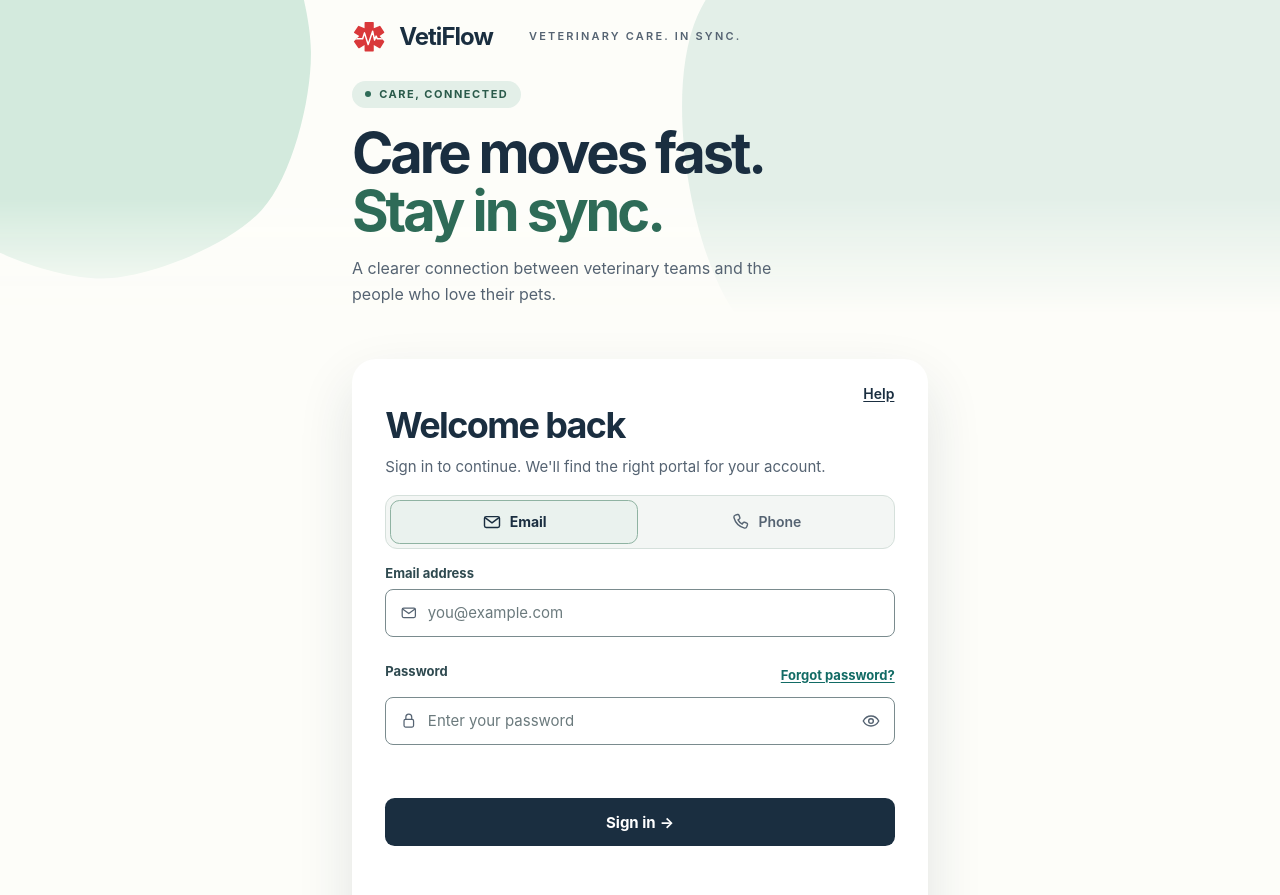
SignInPage › shows the demo message for inactiveAccount
Type "team@vetiflow.demo" into the field labelled "Email address" at (640,613), box left=385, top=589, right=895, bottom=637
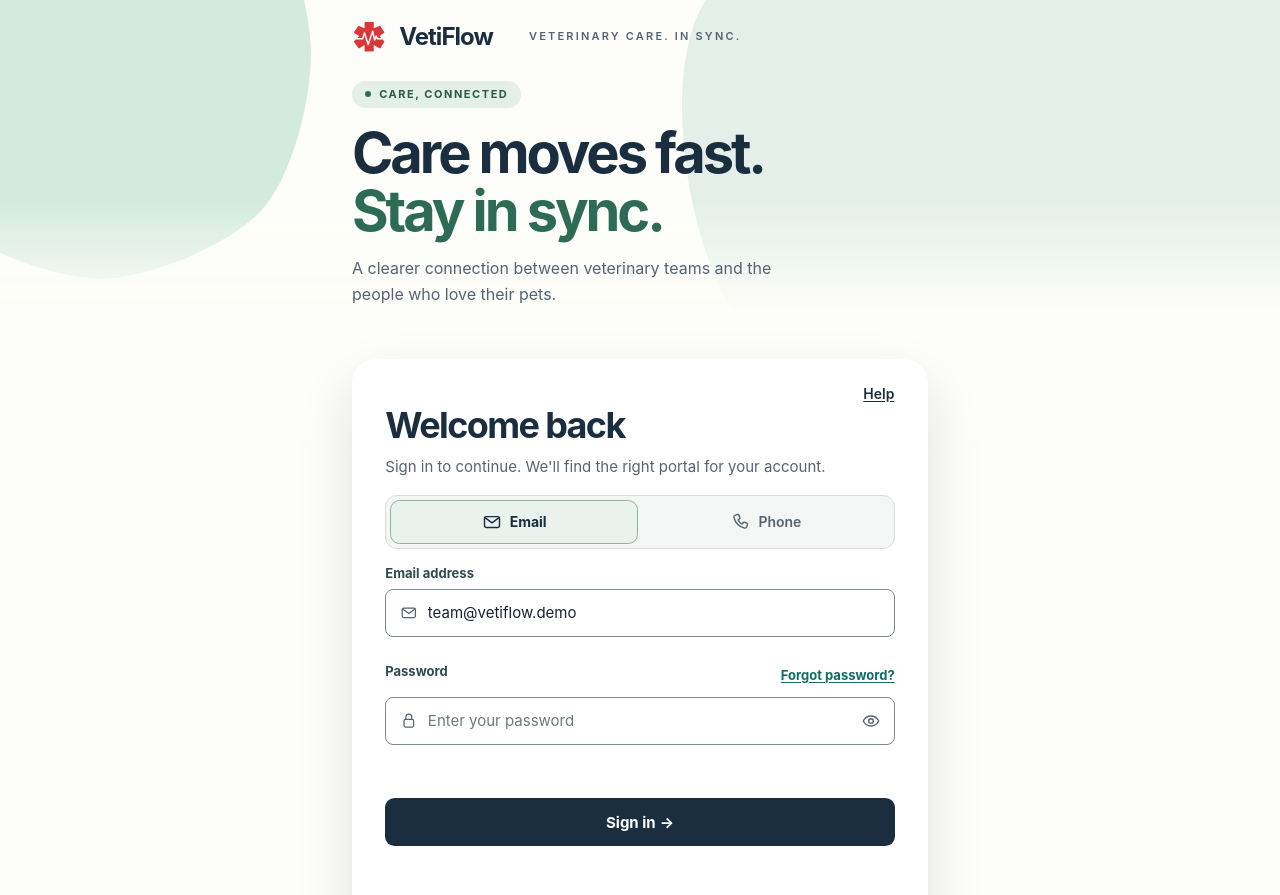
Type "welcome1" into the password field labelled "Password" at (640,721), box left=385, top=697, right=895, bottom=745
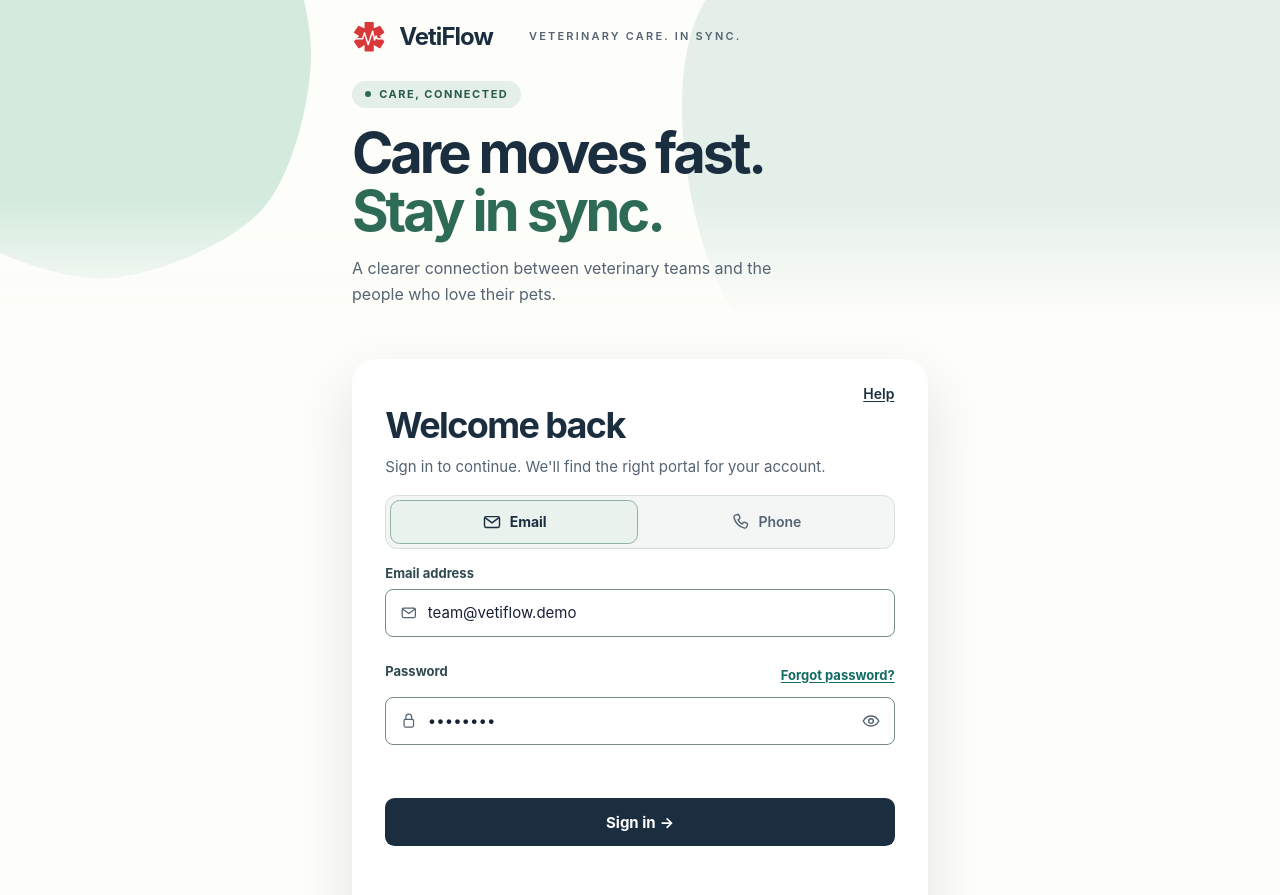
Click the button "Sign in →" at (640,822), box left=385, top=798, right=895, bottom=846
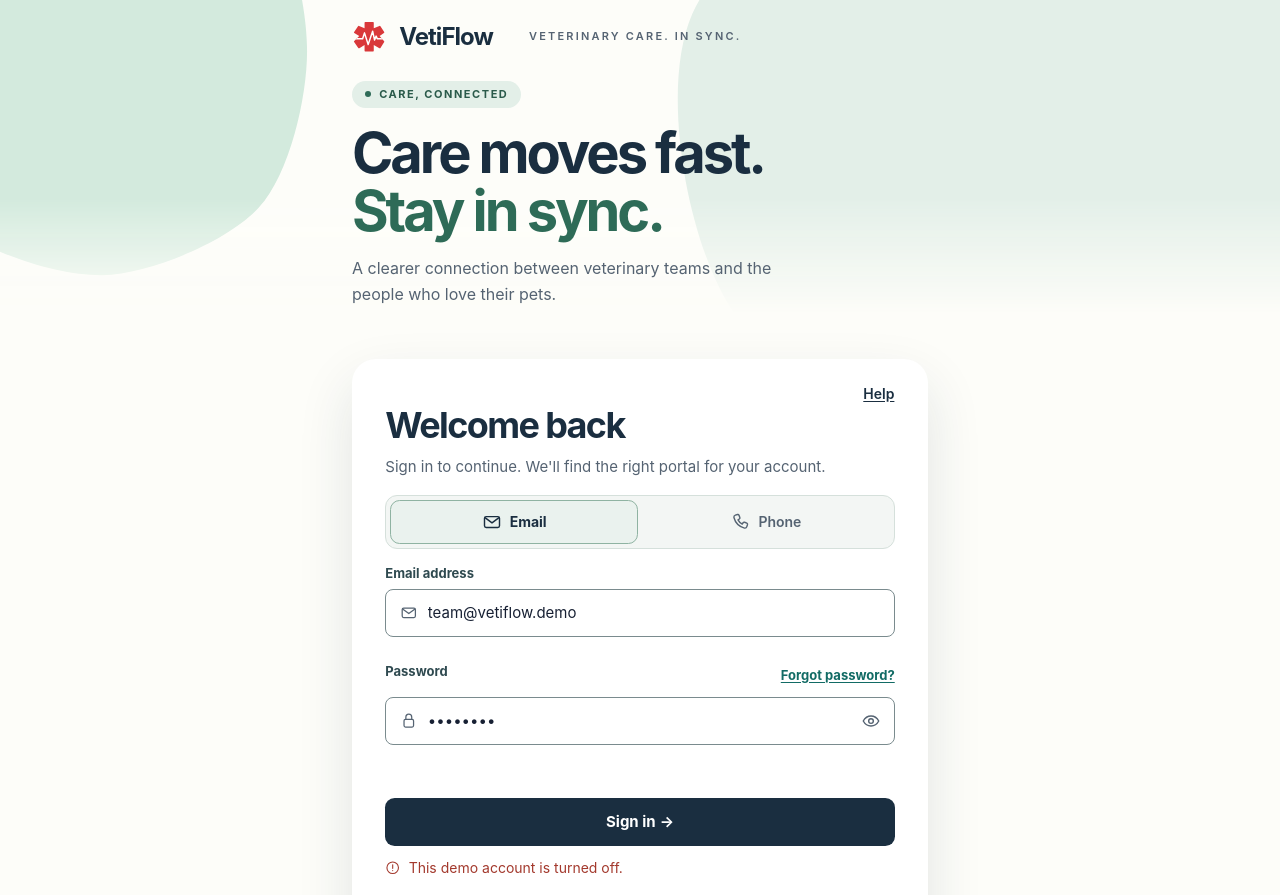
Expected: the message reads "This demo account is turned off.", left=409, top=859, right=623, bottom=876
